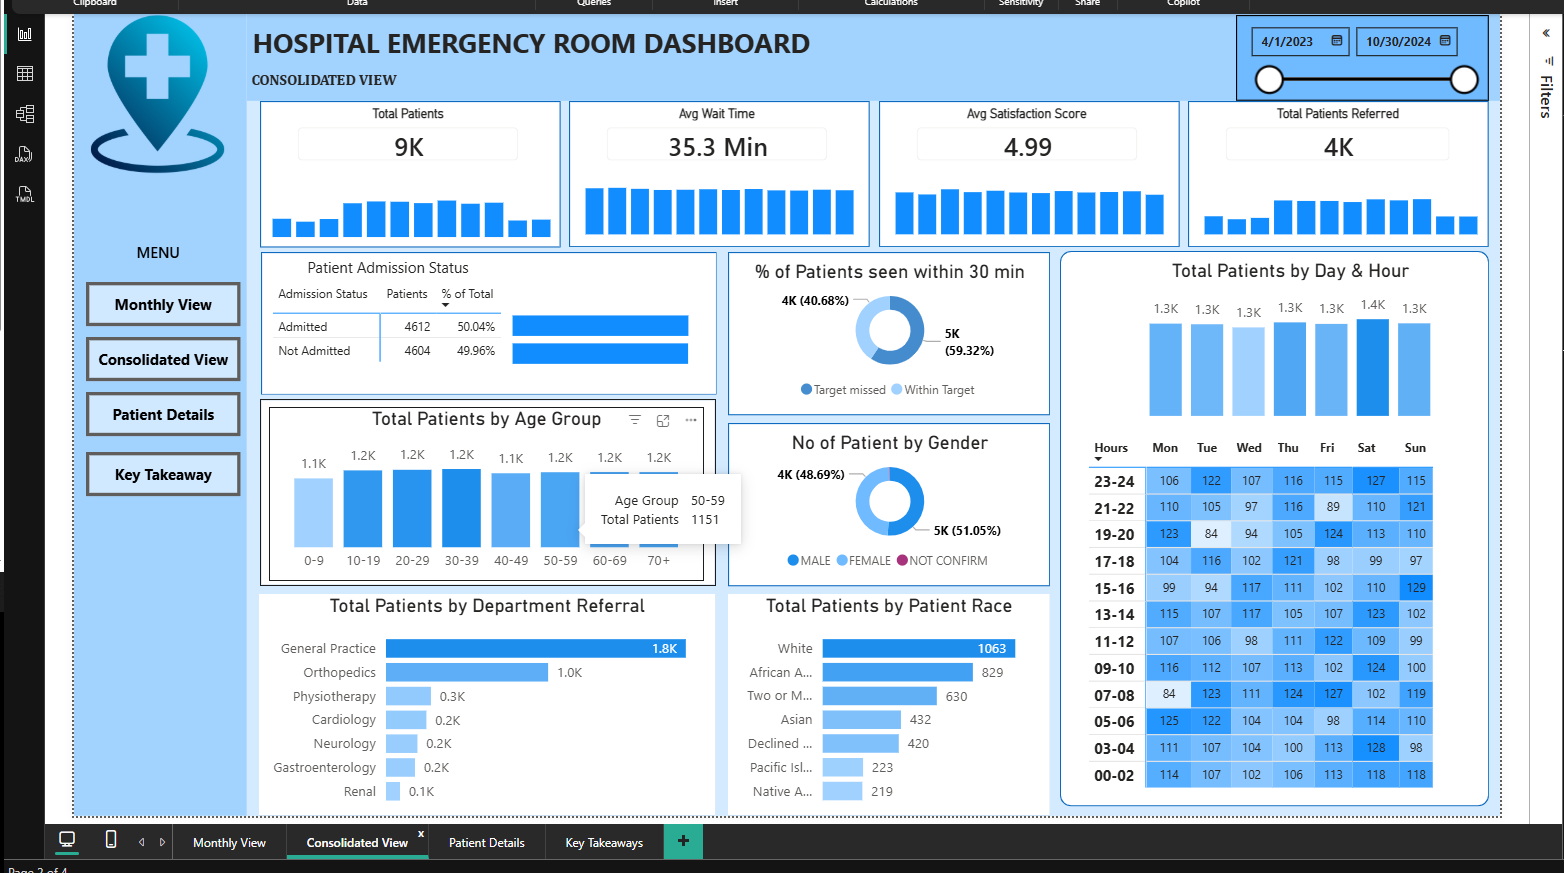

Layout of this report page (visuals, bound fields, positions):
{"tool":"powerbi","page":{"name":"Consolidated View","canvas":[1280,720],"ordinal":1},"visuals":[{"type":"shape","box":[0,0,155,719.8],"z":0},{"type":"actionButton","title":"Monthly View","box":[10.5,241.3,138.7,39.6],"z":0,"group":"g1"},{"type":"shape","box":[155,0,1125,78],"z":1000},{"type":"actionButton","title":"Monthly View","box":[10.5,290.3,138.7,39.6],"z":1000,"group":"g1"},{"type":"textbox","box":[155.3,3.6,590.7,47.6],"z":2000},{"type":"actionButton","title":"Monthly View","box":[10.5,340.4,138.7,39.6],"z":2000,"group":"g1"},{"type":"textbox","box":[154.7,44.5,147.6,33.4],"z":3000},{"type":"actionButton","title":"Monthly View","box":[10.5,394,138.7,39.6],"z":3000,"group":"g1"},{"type":"shape","box":[166.8,78,269.9,131.6],"z":4000,"group":"g2"},{"type":"shape","box":[444.5,78.2,270,131.2],"z":4000,"group":"g3"},{"type":"shape","box":[1000,78.2,270,131.2],"z":4000,"group":"g4"},{"type":"shape","box":[165.9,520.3,409.7,199.4],"z":4000},{"type":"shape","box":[722.7,78.2,270,131.2],"z":5000},{"type":"cardVisual","title":"Total Patients","fields":{"Data":["Measure.No of Patients"]},"box":[194.3,82.5,210.2,55.9],"z":5000,"group":"g2"},{"type":"cardVisual","title":"Avg Wait Time","fields":{"Data":["Measure.Avg Wait Time"]},"box":[472,82.7,210.3,55.7],"z":5000,"group":"g3"},{"type":"cardVisual","title":"Total Patients Referred","fields":{"Data":["Measure.Total Patients Referred"]},"box":[1028,82.7,213.9,55.7],"z":5000,"group":"g4"},{"type":"textbox","box":[51.3,200.5,64.1,30.3],"z":5010,"group":"g9"},{"type":"group","id":"g1","title":"Group 1","box":[10.5,241.3,138.7,192.3],"z":5015,"group":"g9"},{"type":"shape","box":[587.4,213.3,289.2,146.6],"z":5500,"group":"g7"},{"type":"shape","box":[166.8,345.8,409.4,167.9],"z":5500,"group":"g5"},{"type":"shape","box":[587.4,367,289.2,146.6],"z":5500,"group":"g8"},{"type":"columnChart","fields":{"Y":["Measure.Total Patients"],"Category":["Date Table.MONTH"]},"box":[172.9,137.8,259.8,68],"z":6000,"group":"g2"},{"type":"columnChart","fields":{"Category":["Date Table.MONTH"],"Y":["Avg(Hospital_ER_Data.Patient Waittime)"]},"box":[454.1,138.4,250.9,65.6],"z":6000,"group":"g3"},{"type":"columnChart","fields":{"Category":["Date Table.MONTH"],"Y":["Measure.Total Patients Referred"]},"box":[1009.7,138.4,255.3,65.6],"z":6000,"group":"g4"},{"type":"shape","box":[587.4,520.7,289.2,199.2],"z":6000},{"type":"shape","box":[884.8,213,385.3,498.6],"z":7000},{"type":"cardVisual","title":"Avg Satisfaction Score","fields":{"Data":["Measure.Avg Satisfaction Score"]},"box":[750.3,82.6,210.3,55.7],"z":8000},{"type":"columnChart","fields":{"Category":["Date Table.MONTH"],"Y":["Measure.Avg Satisfaction Score"]},"box":[732.4,138.3,250.9,65.5],"z":9000},{"type":"clusteredColumnChart","fields":{"Category":["Hospital_ER_Data.Age Group"],"Y":["Measure.Total Patients"]},"box":[174.8,353.1,390.7,155.9],"z":9000,"group":"g5"},{"type":"donutChart","title":"% of Patients seen within 30 min","fields":{"Category":["Hospital_ER_Data.Waittime Status"],"Y":["Measure.Total Patients"]},"box":[596.1,220.1,272.8,133.8],"z":10000,"group":"g7"},{"type":"donutChart","title":"No of Patient by Gender","fields":{"Y":["Measure.Total Patients"],"Category":["Hospital_ER_Data.Patient Gender"]},"box":[596.1,373.8,272.8,133.8],"z":10000,"group":"g8"},{"type":"clusteredBarChart","fields":{"Y":["Measure.Total Patients"],"Category":["Hospital_ER_Data.Department Referral"]},"box":[165.9,520.3,409.7,199.4],"z":10000},{"type":"slicer","fields":{"Values":["Date Table.Date"]},"box":[1043.4,0.9,226.6,77.1],"z":11000},{"type":"group","id":"g2","title":"Group 2","box":[166.8,78,269.9,127.5],"z":12000},{"type":"group","id":"g3","title":"Group 2","box":[444.5,78.2,270.2,131.2],"z":13000},{"type":"group","id":"g4","title":"Group 2","box":[1000,78.2,270,131.2],"z":14000},{"type":"group","id":"g5","title":"Group 1","box":[166.8,345.8,409.7,167.7],"z":15000},{"type":"group","id":"g6","title":"Group 3","box":[167.8,213.3,435.8,128.4],"z":16000},{"type":"group","id":"g7","title":"Group 4","box":[587.4,213.3,289.2,146.6],"z":17000},{"type":"group","id":"g8","title":"Group 4","box":[587.4,367,289.2,146.6],"z":18000},{"type":"shape","box":[167.8,213.3,409.4,128.4],"z":19000,"group":"g6"},{"type":"clusteredBarChart","fields":{"Y":["Measure.Total Patients"],"Category":["Hospital_ER_Data.Patient Race"]},"box":[587.4,520.7,289.2,199.2],"z":19000},{"type":"pivotTable","title":"Patient Admission Status","fields":{"Values":["Measure.Total Patients1","Measure.Total Patients"],"Rows":["Hospital_ER_Data.Admission Status"]},"box":[173,218,217.4,115.3],"z":20000,"group":"g6"},{"type":"pivotTable","fields":{"Rows":["Hospital_ER_Data.Waittime Interval"],"Columns":["Date Table.Day Name"],"Values":["Measure.Total Patients"]},"box":[905.6,373.5,336.3,326.3],"z":20000},{"type":"columnChart","title":"Total Patients by Day & Hour","fields":{"Category":["Date Table.Day Name"],"Y":["Measure.Total Patients"]},"box":[960.9,220.3,262.9,146.9],"z":21000},{"type":"clusteredBarChart","title":"Admission Status","fields":{"Category":["Hospital_ER_Data.Admission Status"],"Y":["Measure.Total Patients"]},"box":[388.2,251.7,215.4,73.8],"z":21000,"group":"g6"},{"type":"image","box":[0,0.9,149.6,142.3],"z":22000},{"type":"group","id":"g9","title":"Group 2","box":[10.5,200.5,138.7,233.2],"z":23000}]}

Visuals, with their boxes on the page's 1280x720 design canvas (x1, y1, x2, y2). These are canvas units, not pixel positions in the 1564x873 screenshot, which may show the page scaled, cropped or inside an application window:
shape: crop(0, 0, 155, 720)
"Monthly View" actionButton: crop(10, 241, 149, 281)
shape: crop(155, 0, 1280, 78)
"Monthly View" actionButton: crop(10, 290, 149, 330)
textbox: crop(155, 4, 746, 51)
"Monthly View" actionButton: crop(10, 340, 149, 380)
textbox: crop(155, 44, 302, 78)
"Monthly View" actionButton: crop(10, 394, 149, 434)
shape: crop(167, 78, 437, 210)
shape: crop(444, 78, 714, 209)
shape: crop(1000, 78, 1270, 209)
shape: crop(166, 520, 576, 720)
shape: crop(723, 78, 993, 209)
"Total Patients" cardVisual: crop(194, 82, 404, 138)
"Avg Wait Time" cardVisual: crop(472, 83, 682, 138)
"Total Patients Referred" cardVisual: crop(1028, 83, 1242, 138)
textbox: crop(51, 200, 115, 231)
"Group 1" group: crop(10, 241, 149, 434)
shape: crop(587, 213, 877, 360)
shape: crop(167, 346, 576, 514)
shape: crop(587, 367, 877, 514)
columnChart - Measure.Total Patients x Date Table.MONTH: crop(173, 138, 433, 206)
columnChart - Date Table.MONTH x Avg(Hospital_ER_Data.Patient Waittime): crop(454, 138, 705, 204)
columnChart - Date Table.MONTH x Measure.Total Patients Referred: crop(1010, 138, 1265, 204)
shape: crop(587, 521, 877, 720)
shape: crop(885, 213, 1270, 712)
"Avg Satisfaction Score" cardVisual: crop(750, 83, 961, 138)
columnChart - Date Table.MONTH x Measure.Avg Satisfaction Score: crop(732, 138, 983, 204)
clusteredColumnChart - Hospital_ER_Data.Age Group x Measure.Total Patients: crop(175, 353, 566, 509)
"% of Patients seen within 30 min" donutChart: crop(596, 220, 869, 354)
"No of Patient by Gender" donutChart: crop(596, 374, 869, 508)
clusteredBarChart - Measure.Total Patients x Hospital_ER_Data.Department Referral: crop(166, 520, 576, 720)
slicer - Date Table.Date: crop(1043, 1, 1270, 78)
"Group 2" group: crop(167, 78, 437, 206)
"Group 2" group: crop(444, 78, 715, 209)
"Group 2" group: crop(1000, 78, 1270, 209)
"Group 1" group: crop(167, 346, 576, 514)
"Group 3" group: crop(168, 213, 604, 342)
"Group 4" group: crop(587, 213, 877, 360)
"Group 4" group: crop(587, 367, 877, 514)
shape: crop(168, 213, 577, 342)
clusteredBarChart - Measure.Total Patients x Hospital_ER_Data.Patient Race: crop(587, 521, 877, 720)
"Patient Admission Status" pivotTable: crop(173, 218, 390, 333)
pivotTable - Hospital_ER_Data.Waittime Interval x Date Table.Day Name: crop(906, 374, 1242, 700)
"Total Patients by Day & Hour" columnChart: crop(961, 220, 1224, 367)
"Admission Status" clusteredBarChart: crop(388, 252, 604, 326)
image: crop(0, 1, 150, 143)
"Group 2" group: crop(10, 200, 149, 434)
